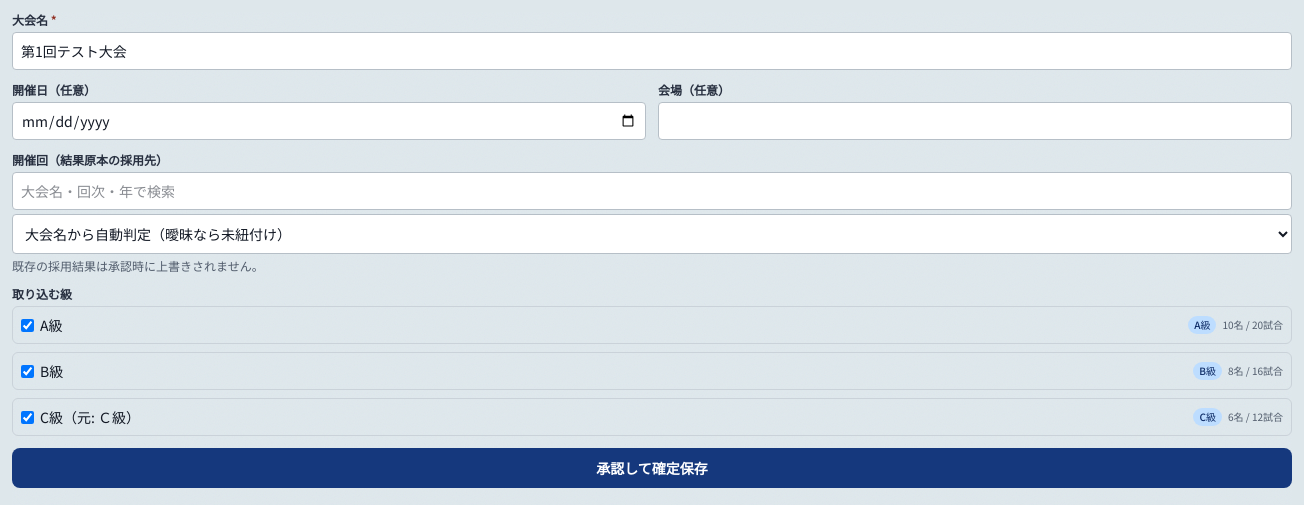
Test: ApproveResultDraftForm — 級選択 › edition 選択後、取込済みの grade は OFF になり「取込済み」を表示する
Select "第1回テスト大会 (2026)" in the dropdown labelled "開催回（結果原本の採用先）". click: (652, 234)
box: 12,214 -> 1292,254
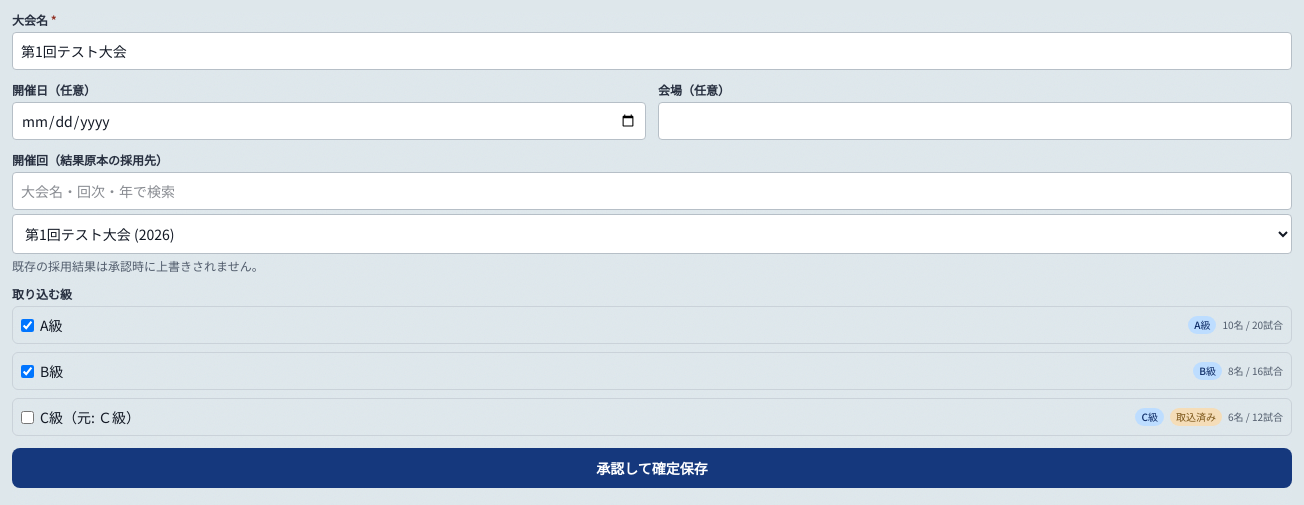
Check: the text "取込済み" is shown, box 1170,408 -> 1222,426
